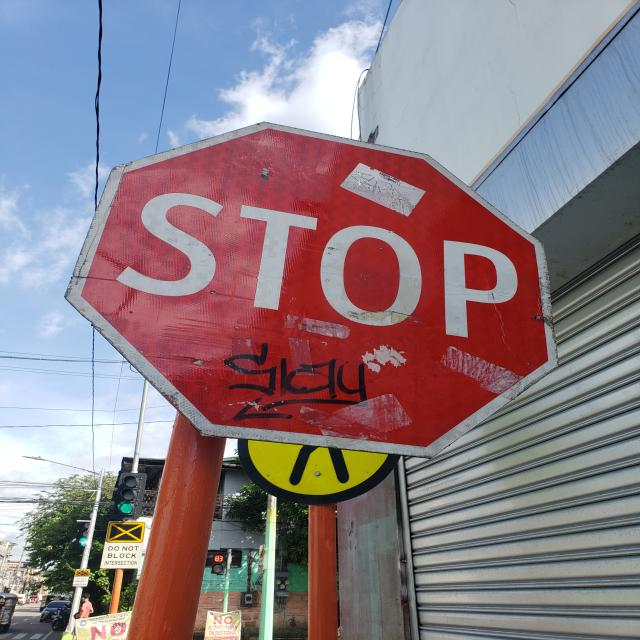stop-sign: (62, 120, 558, 460)
